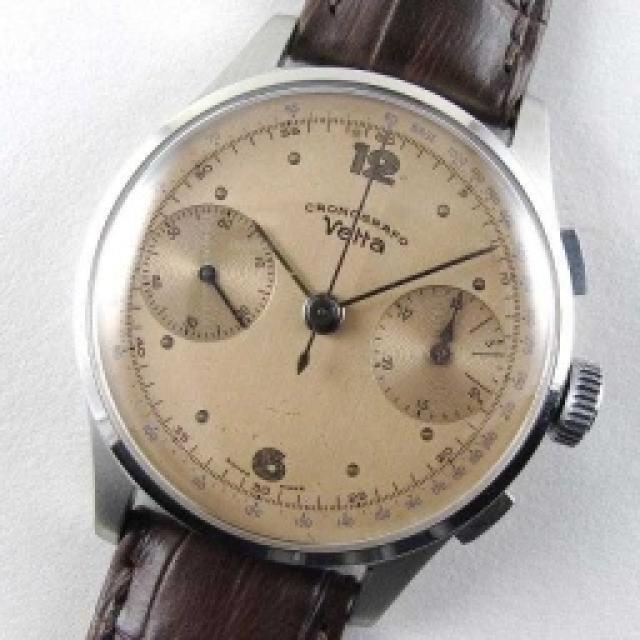saat: (66, 0, 614, 640)
